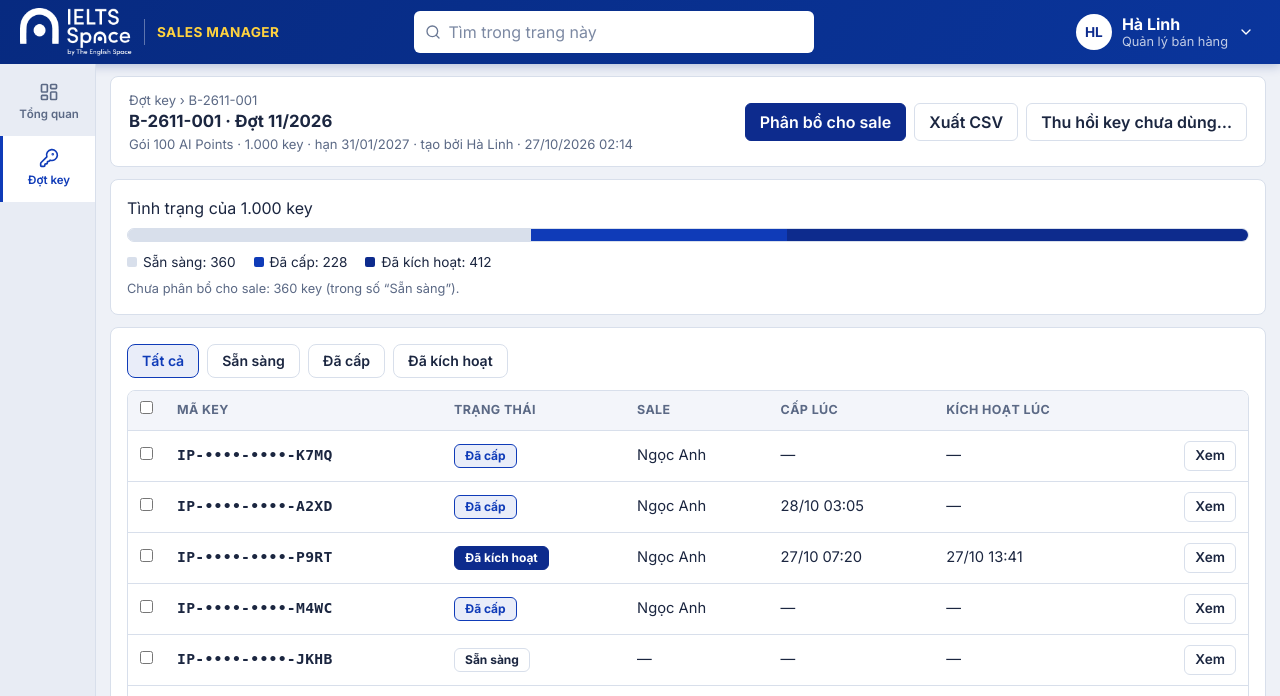
it: sale manager screens › moves keys from the shared pool to sales when the allocation is saved
Expected: the text "Chưa phân bổ cho sale: 360 key (trong số “Sẵn sàng”)." is shown, [127,281,459,296]
Click the button "Phân bổ cho sale" at (825, 122), box [745,103,906,141]
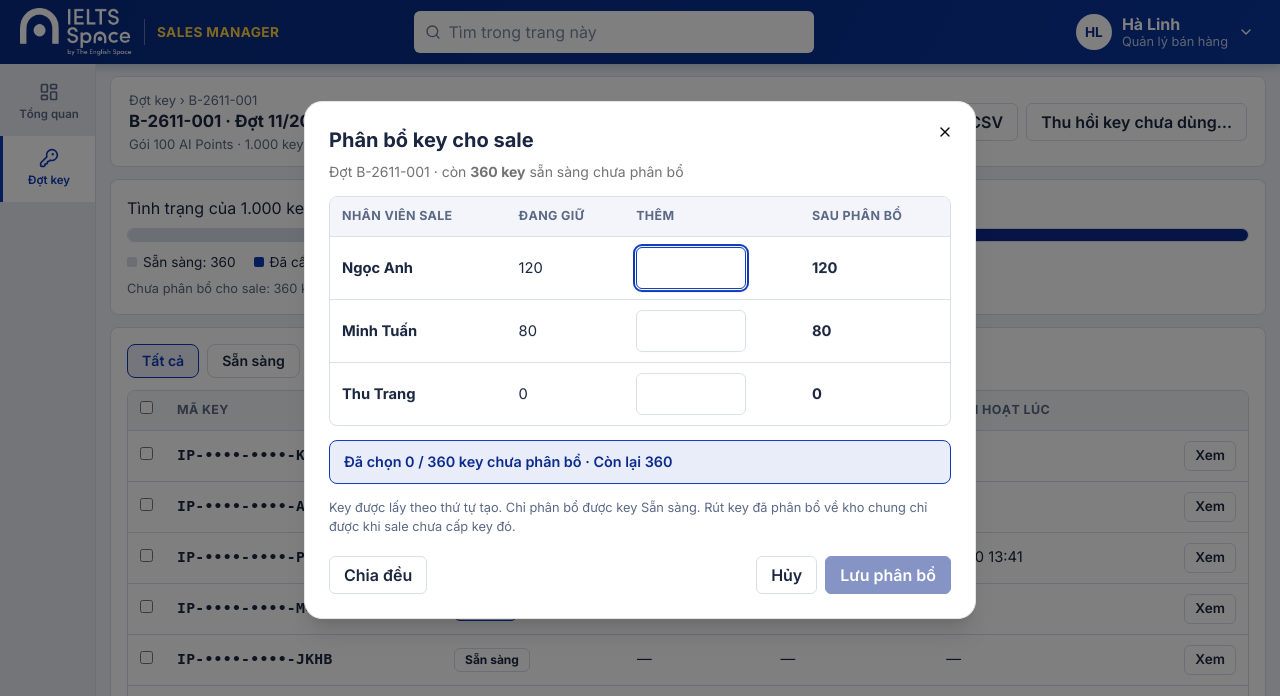
Result: the text "Đợt B-2611-001 · còn 360 key sẵn sàng chưa phân bổ" is shown at [329,163,684,180]
Click the button "Chia đều" at (378, 575), box [329,556,427,594]
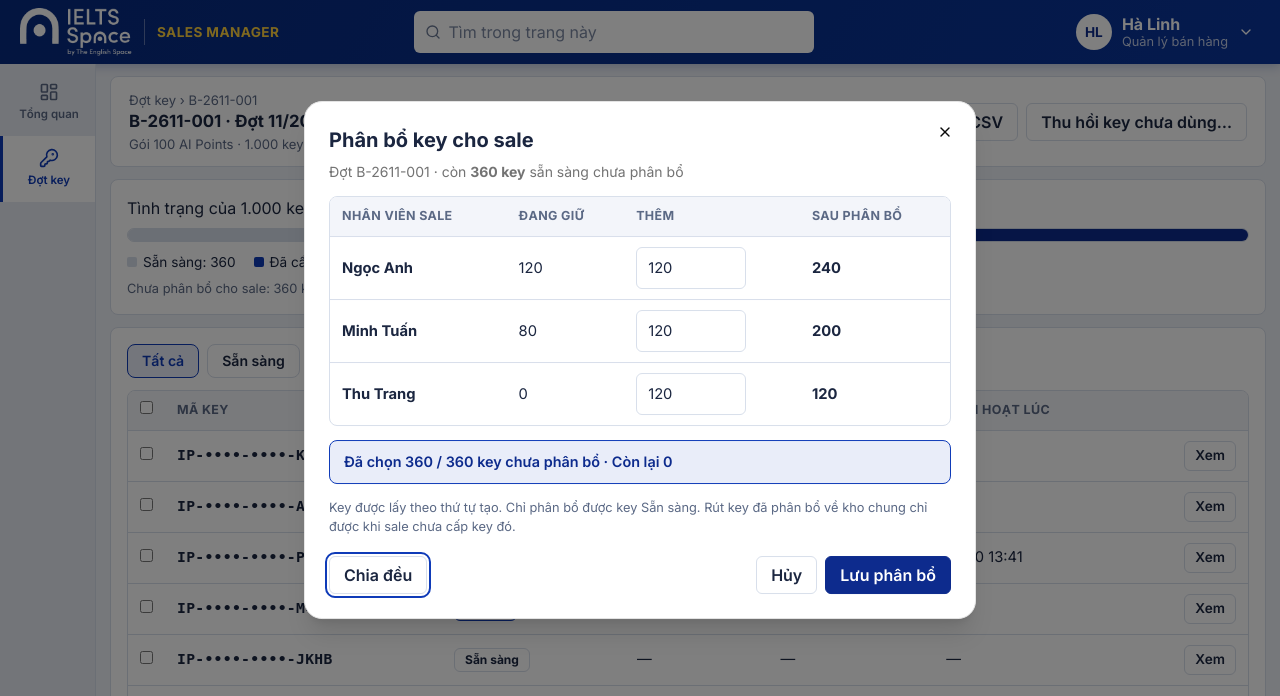
Result: the message shows "Đã chọn 360 / 360" at [329,440,951,484]
Click the button "Lưu phân bổ" at (888, 575), box [825,556,951,594]
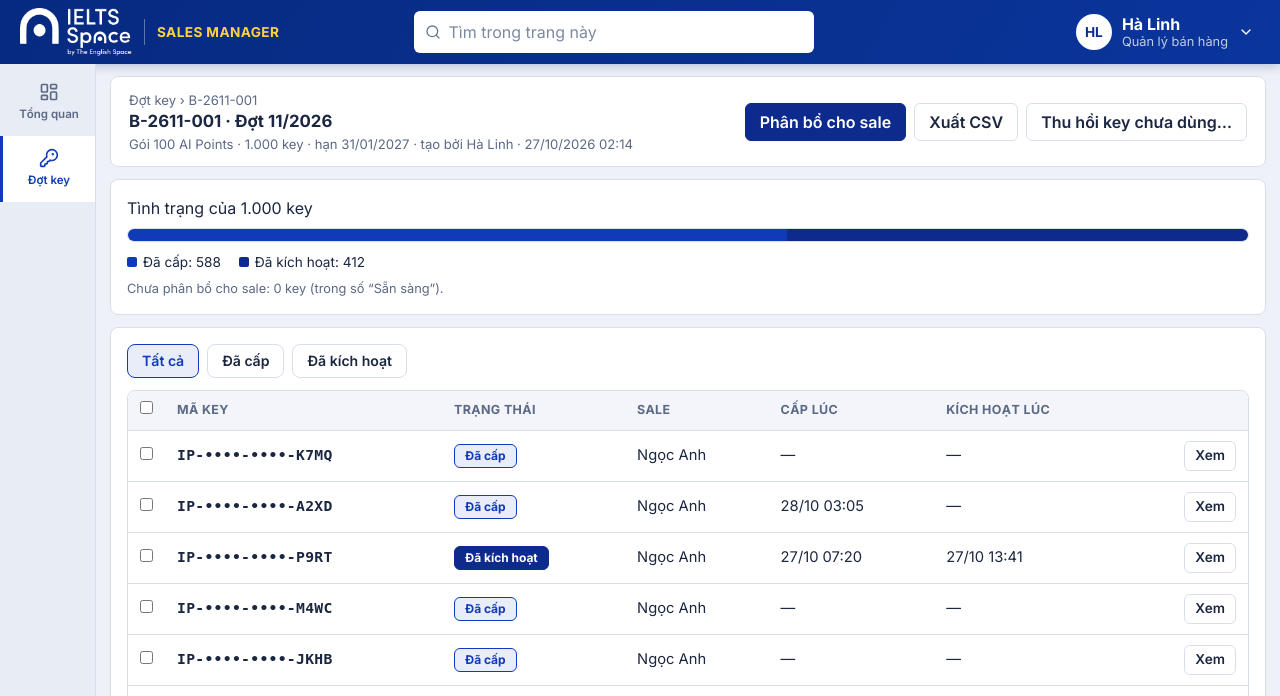
Result: the dialog is gone
Result: the text "Chưa phân bổ cho sale: 0 key (trong số “Sẵn sàng”)." is shown at [127,281,444,296]
